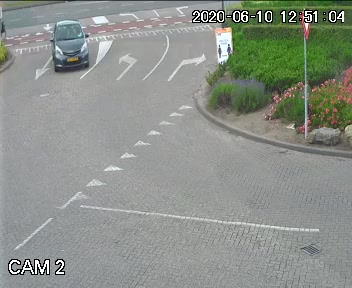car: (47, 15, 85, 76)
